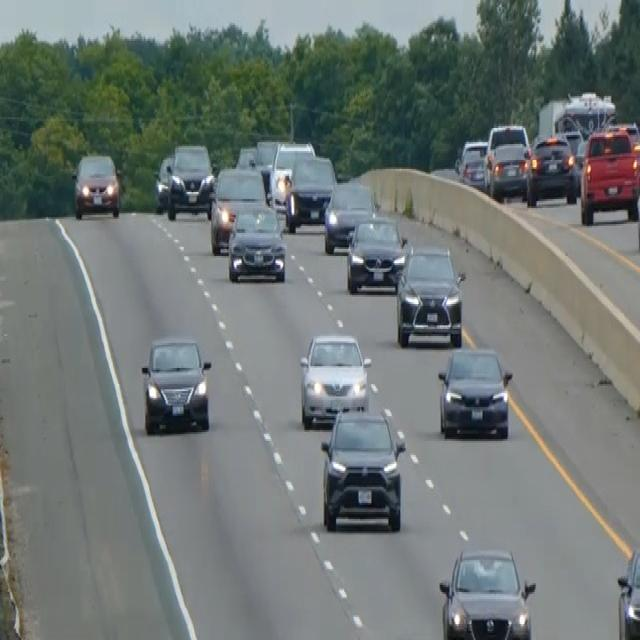car: (438, 546, 536, 638), (140, 332, 212, 436), (437, 343, 513, 439), (394, 244, 465, 346), (298, 331, 371, 428), (345, 214, 409, 294), (209, 164, 267, 252), (227, 201, 287, 283), (284, 153, 337, 231), (525, 132, 577, 206), (323, 178, 375, 252), (166, 140, 214, 218), (484, 121, 531, 199), (269, 138, 315, 212), (71, 151, 120, 219), (616, 544, 639, 638), (457, 137, 488, 188), (254, 137, 281, 195), (153, 153, 174, 211), (235, 144, 257, 169), (635, 174, 639, 256)
jeep: (319, 404, 407, 534), (577, 122, 639, 228)
